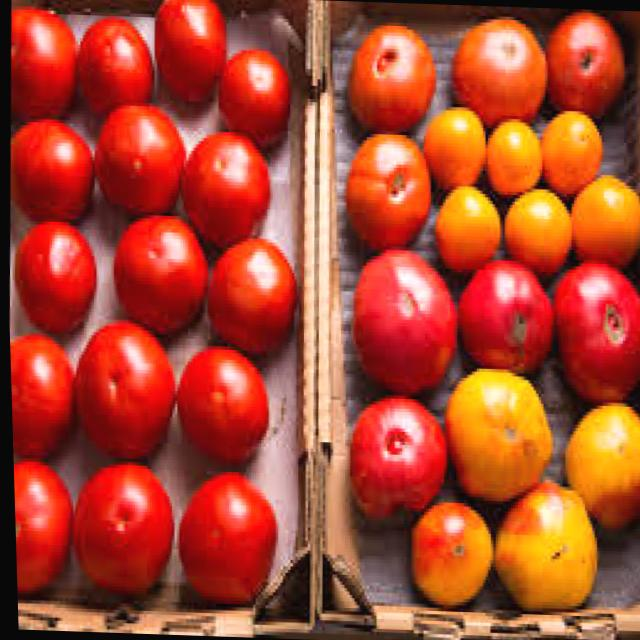tomato: (347, 248, 459, 397), (65, 462, 177, 604), (69, 322, 179, 466), (169, 473, 278, 612), (343, 397, 450, 532), (547, 259, 640, 407), (105, 213, 211, 342), (168, 348, 272, 470), (204, 237, 300, 362), (178, 128, 274, 250), (90, 104, 191, 219), (454, 262, 554, 377), (447, 14, 550, 121), (344, 22, 439, 138), (10, 220, 102, 338), (150, 0, 231, 125), (6, 117, 98, 226), (544, 8, 629, 122), (74, 14, 159, 122), (8, 332, 77, 463), (214, 49, 295, 154), (8, 5, 80, 123), (11, 464, 72, 595)
